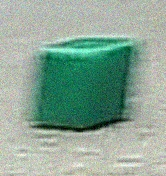green_cube: (23, 28, 139, 137)
